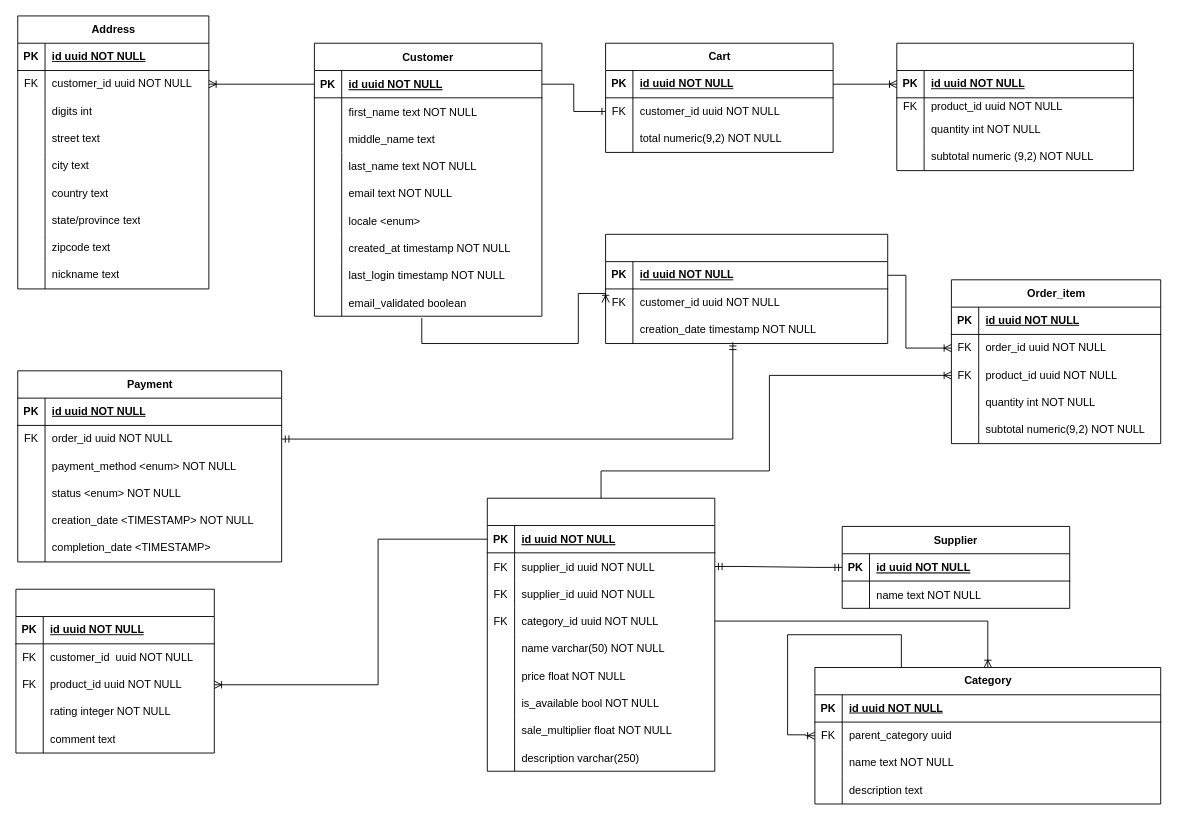
Image size: 1177x820. Some labels were removed from this diagram. Here are the shapes that lost their labels. From the top down, the box of each, then its label:
(896, 42, 1133, 171): Cart_item
(605, 233, 888, 344): Order
(486, 497, 715, 771): Product
(15, 588, 214, 753): Review
